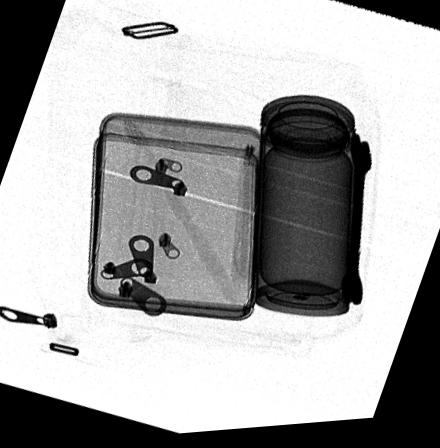Wrench: (339, 139, 373, 313)
